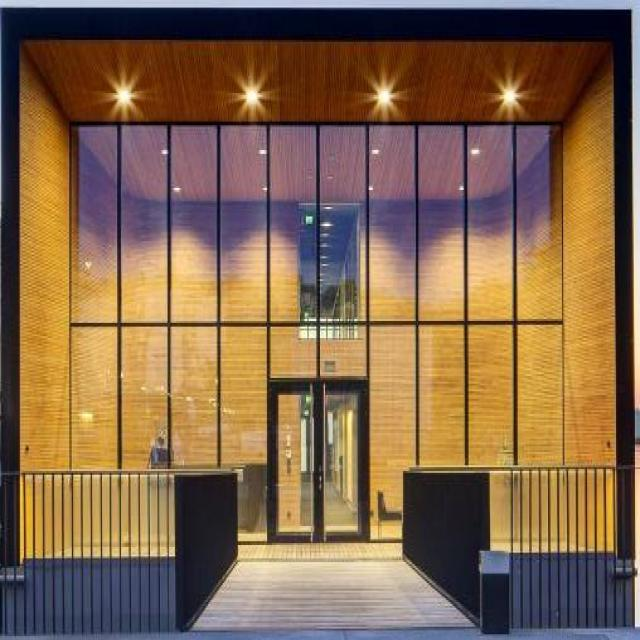door: (267, 375, 373, 540)
railing: (0, 470, 174, 634), (492, 471, 639, 626)
window: (69, 122, 565, 544)
